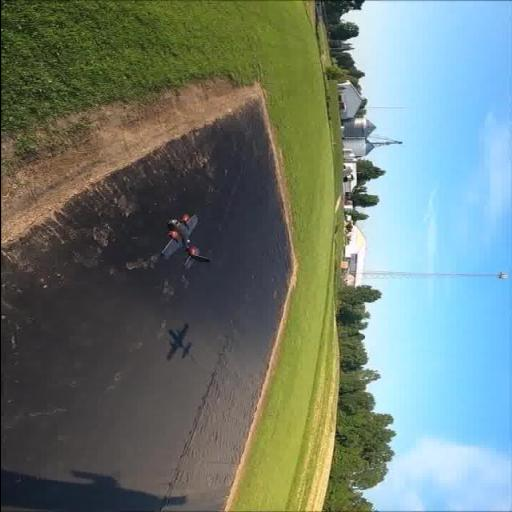uav: (148, 213, 214, 270)
